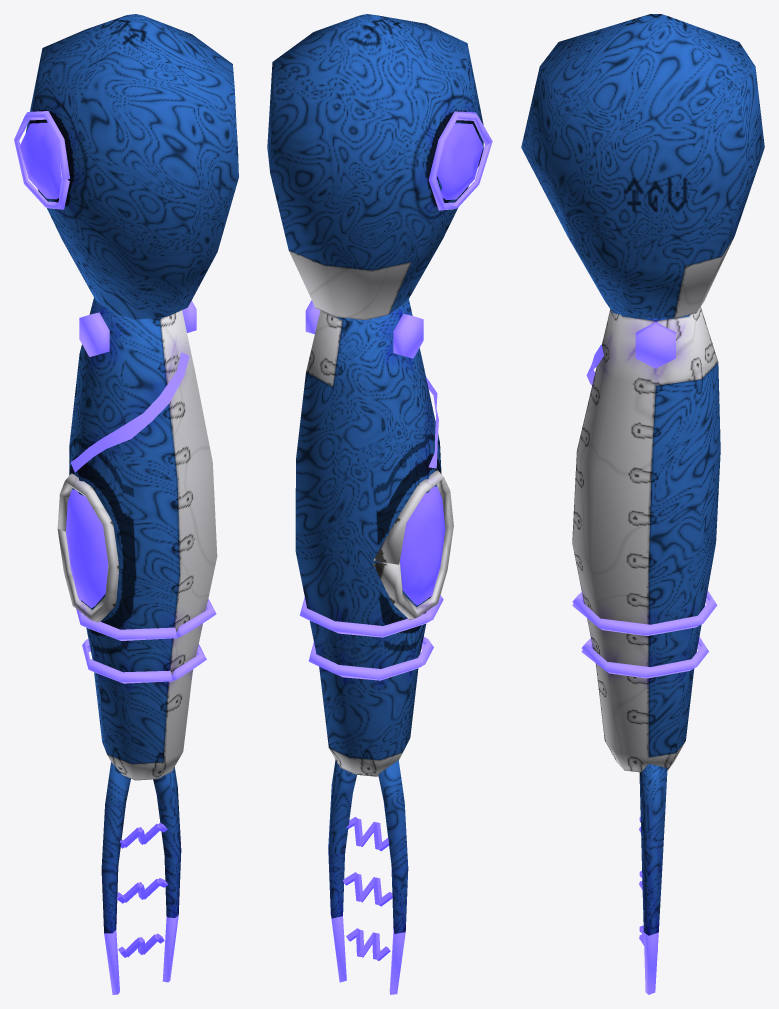
The model's file is LeftArcRifleArmZ.glb.
3 views of the same model, side by side, from view 1: azimuth 30°, elevation 25°; view 2: azimuth 150°, elevation 25°; view 3: azimuth 270°, elevation 25° (orthographic).
Parts seen in each view (by area): view 1: LeftArcRifleArmZ_Fore, LeftArcRifleArmZ_Upper; view 2: LeftArcRifleArmZ_Fore, LeftArcRifleArmZ_Upper; view 3: LeftArcRifleArmZ_Fore, LeftArcRifleArmZ_Upper.
Boxes of the visible parts, x1,y1,x2,y2 form: LeftArcRifleArmZ_Fore: (57,298,217,994); LeftArcRifleArmZ_Upper: (14,14,238,319); LeftArcRifleArmZ_Fore: (295,299,453,994); LeftArcRifleArmZ_Upper: (267,14,492,319); LeftArcRifleArmZ_Fore: (572,306,720,994); LeftArcRifleArmZ_Upper: (521,14,764,318).
Size of the model in its own units: 4.38 by 22.81 by 5.25.
Materials: 5 (3 with a texture image).
